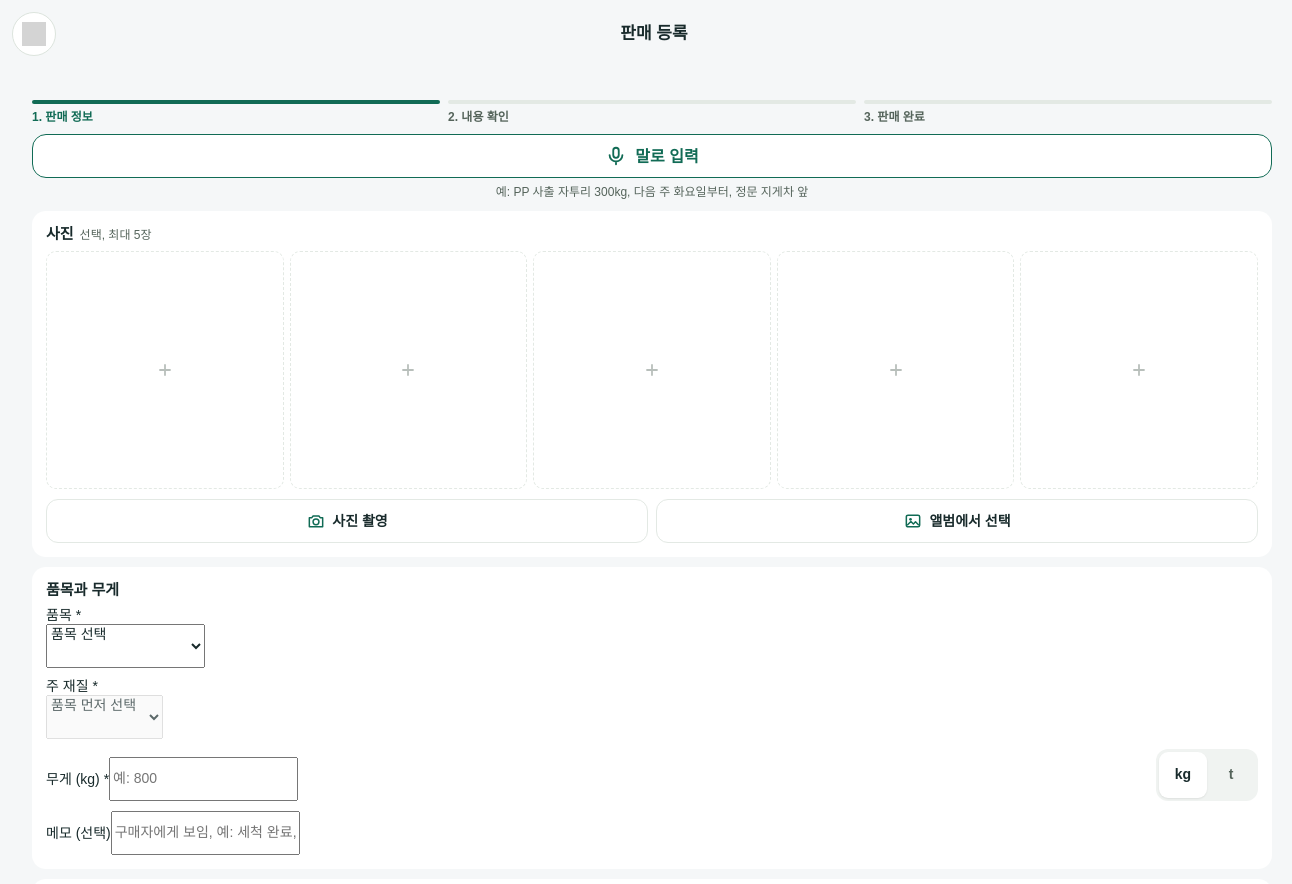
Scenario: 말한 판매 가격은 시세보다 먼저 쓴다
Click the button "말로 입력": x=652, y=156 [32,134,1272,178]
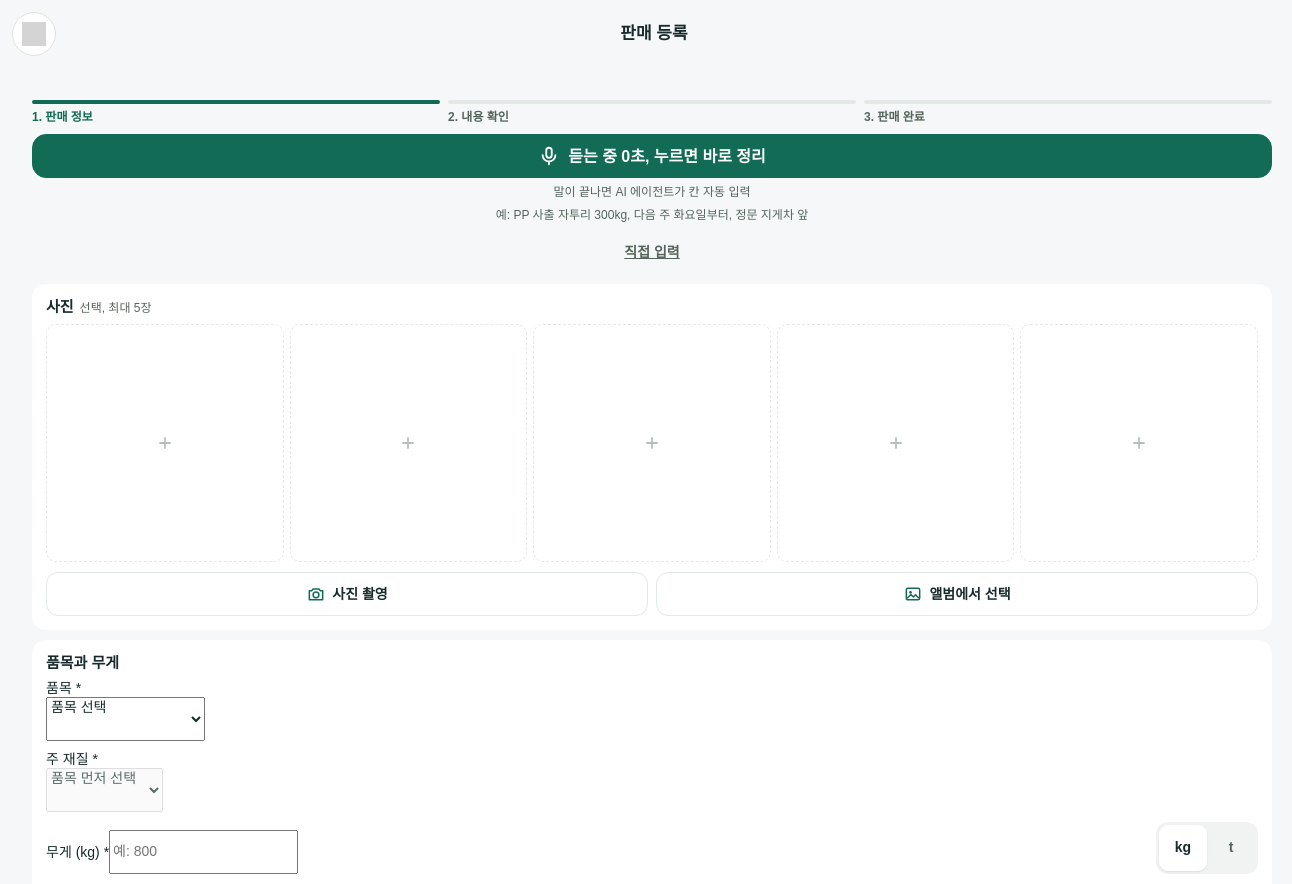
Click the button "듣는 중 0초, 누르면 바로 정리": x=652, y=156 [32,134,1272,178]
(page scrolled)
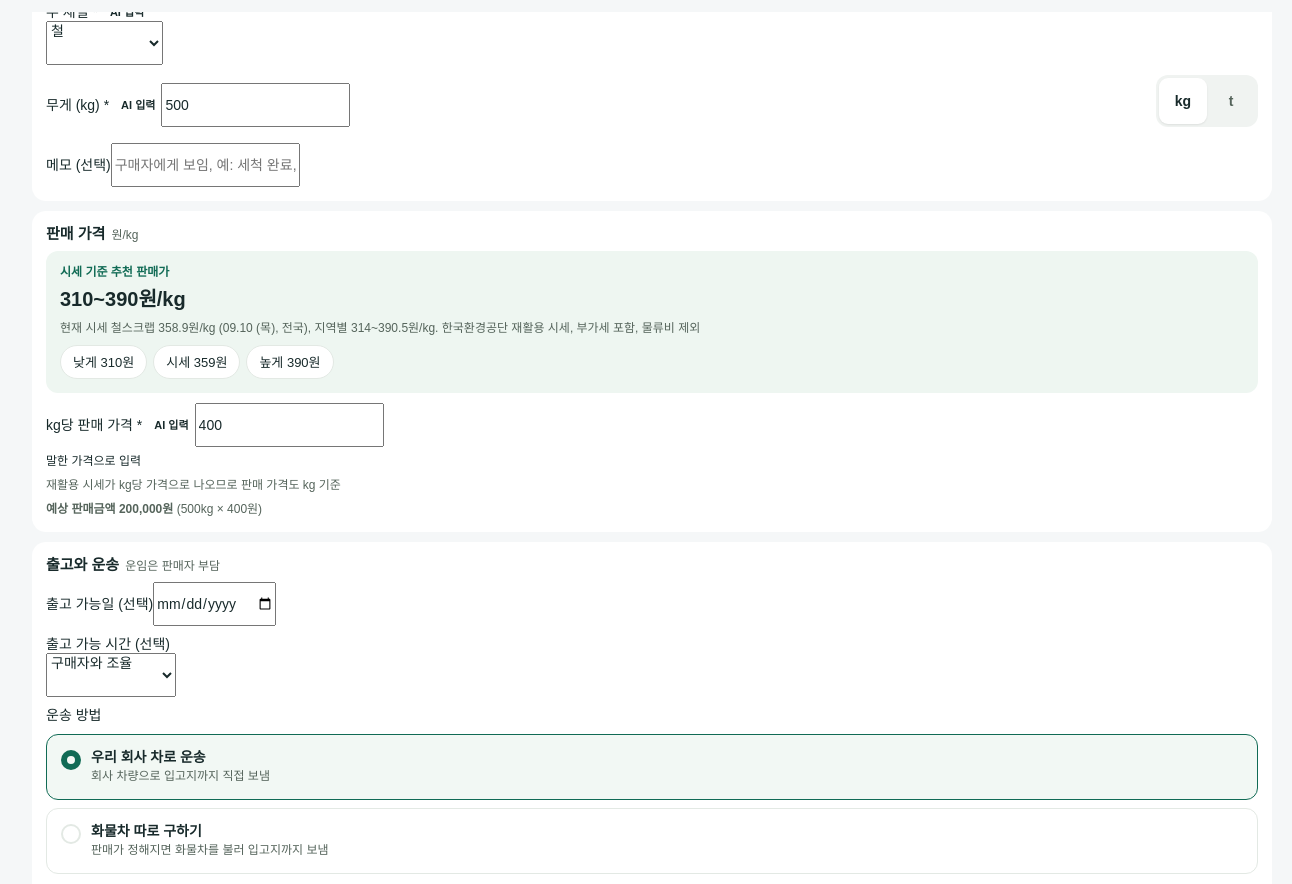
Now the button "시세 359원" is shown, box [153,345,240,379]
Now the field with placeholder "원/kg" holds "400", box [195,403,384,447]
Now the text "말한 가격으로 입력" is shown, box [46,454,141,468]
